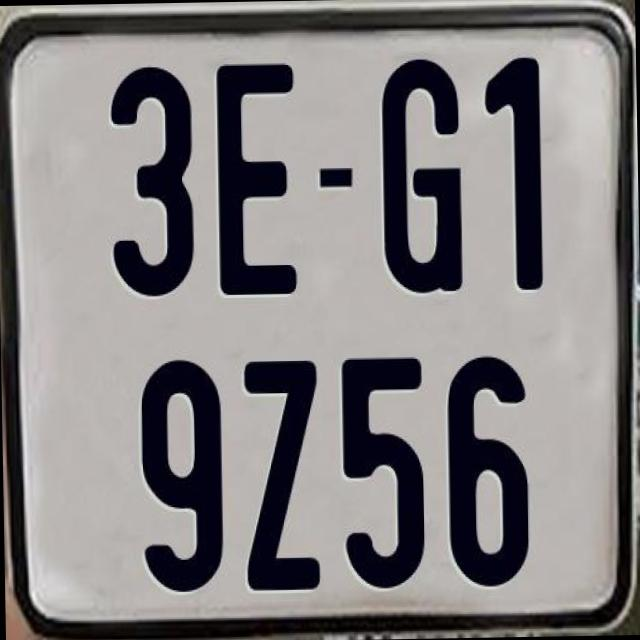1: (482, 56, 544, 294)
3: (108, 66, 198, 304)
5: (339, 354, 423, 586)
6: (444, 355, 532, 596)
9: (139, 357, 229, 595)
E: (215, 62, 304, 294)
G: (377, 55, 465, 298)
Z: (240, 357, 322, 590)
